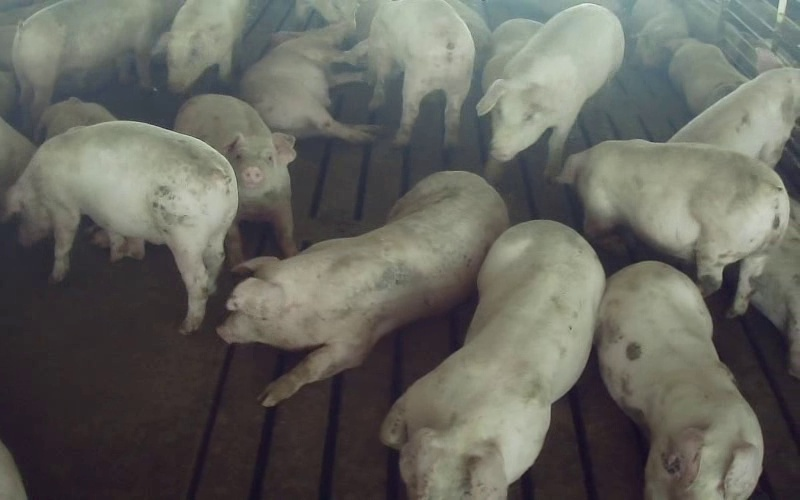pig: (217, 173, 507, 405), (381, 221, 604, 499), (7, 121, 237, 333), (559, 141, 788, 314), (596, 262, 761, 499), (477, 4, 623, 176), (174, 94, 296, 264), (342, 0, 474, 146), (240, 23, 374, 142)
